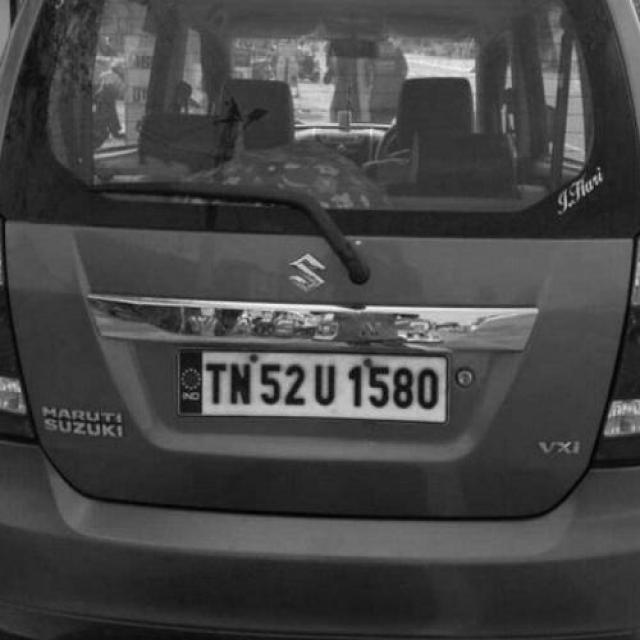car: (0, 4, 640, 640)
license-plate: (177, 339, 458, 434)
